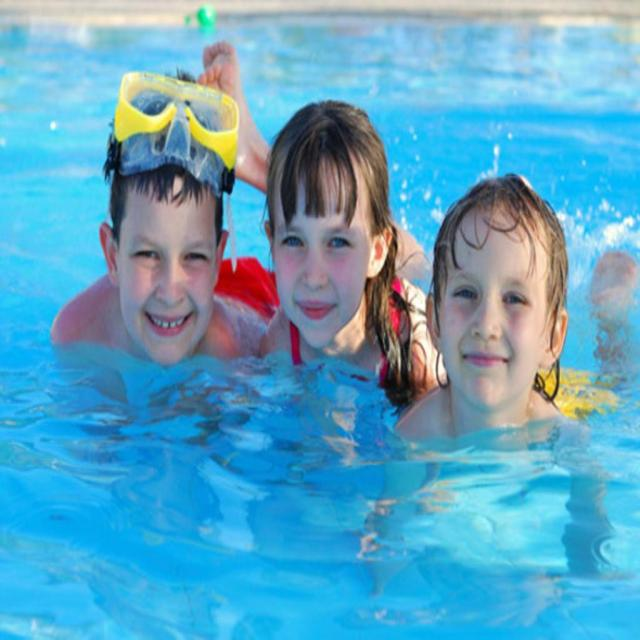Face: (431, 197, 565, 419), (100, 171, 229, 385), (268, 145, 378, 339)
